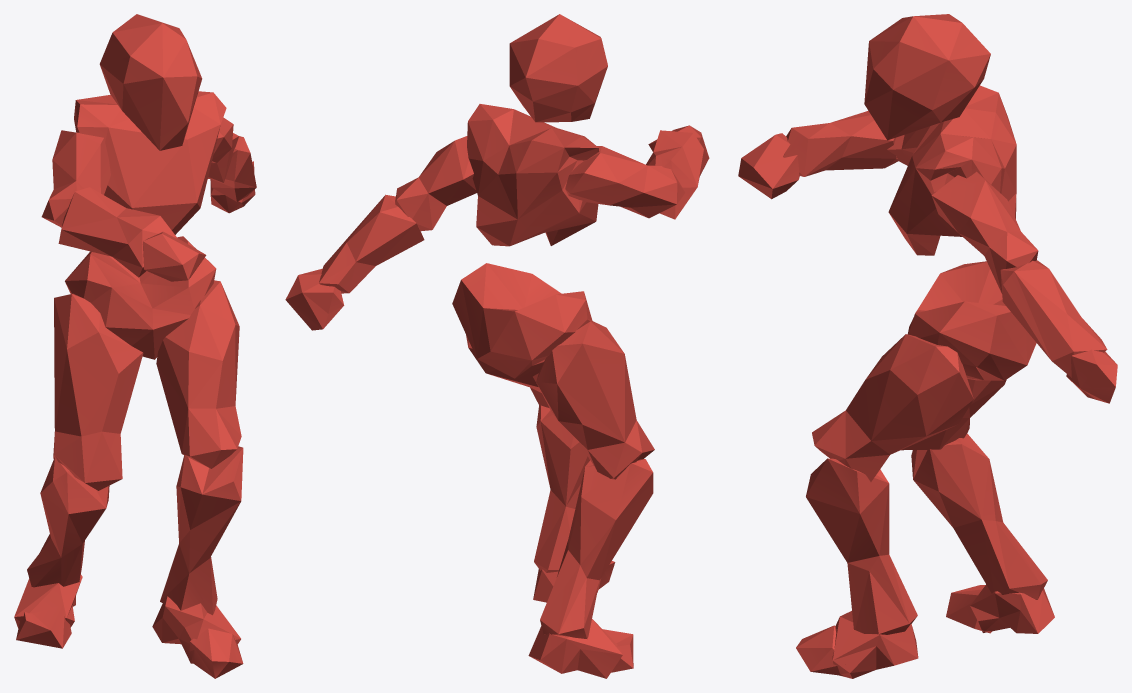
The model's file is 2dancer0177.obj.
The picture shows the model from 3 angles, left to right: view 1: azimuth 30°, elevation 25°; view 2: azimuth 150°, elevation 25°; view 3: azimuth 270°, elevation 25°; orthographic projection. The views are drawn at different scales.
Visible parts, largest first — view 1: Beta_Surface; view 2: Beta_Surface; view 3: Beta_Surface.
Boxes of the visible parts, bbox=[...] form: Beta_Surface: bbox=[14, 14, 256, 678]; Beta_Surface: bbox=[285, 14, 709, 678]; Beta_Surface: bbox=[738, 14, 1117, 678].
Size of the model in its own units: 0.8932 by 1.74 by 0.9239.
